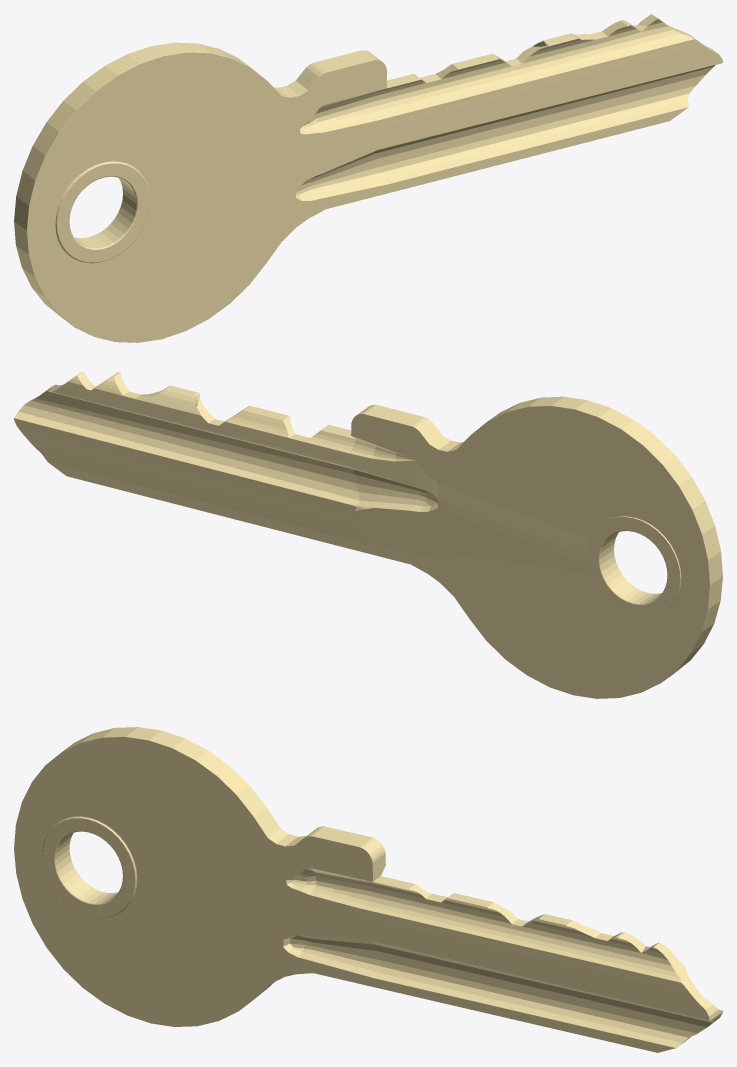
Rendered from key.fbx.
The picture shows the model from 3 angles, top to bottom: view 1: azimuth 30°, elevation 25°; view 2: azimuth 150°, elevation 25°; view 3: azimuth 330°, elevation 25°; orthographic projection.
Visible parts, largest first — view 1: Key; view 2: Key; view 3: Key.
Boxes of the visible parts, <box> form: Key: <box>14,14,722,342</box>; Key: <box>14,371,722,698</box>; Key: <box>14,727,722,1052</box>.
Size of the model in its own units: 34942 by 13668 by 1348.
